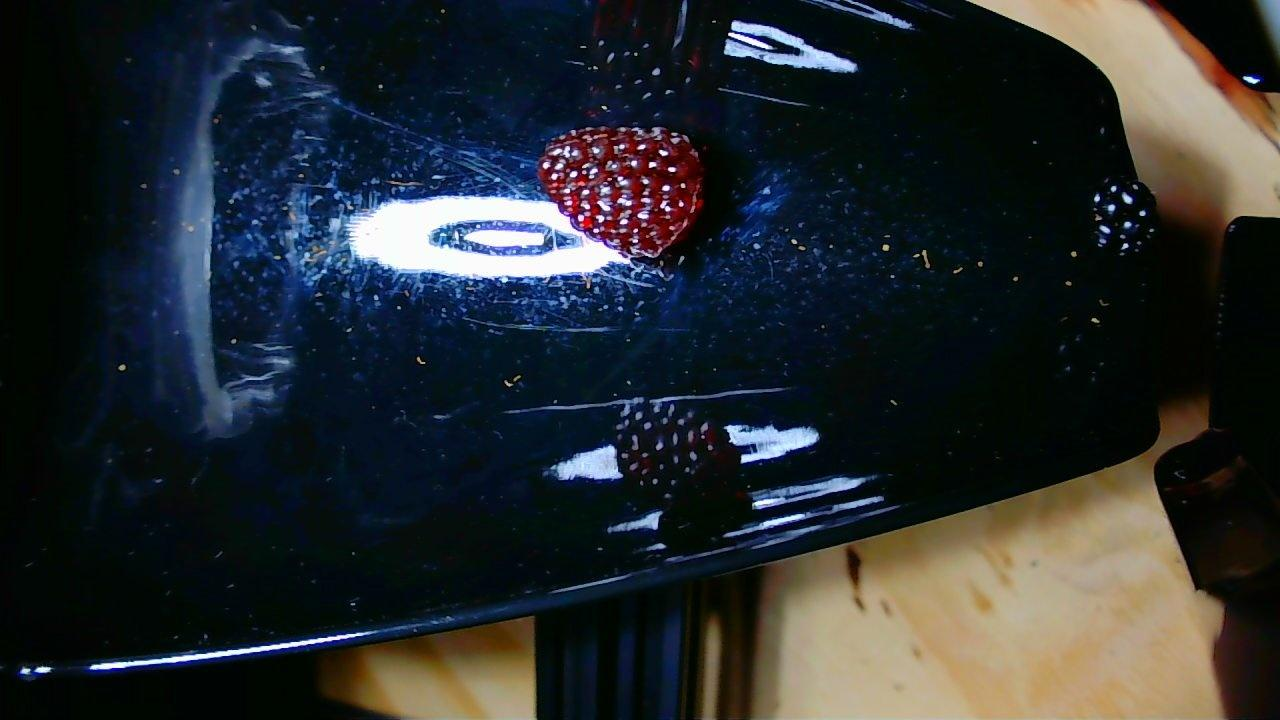berry: (539, 128, 703, 256), (1094, 179, 1155, 254)
